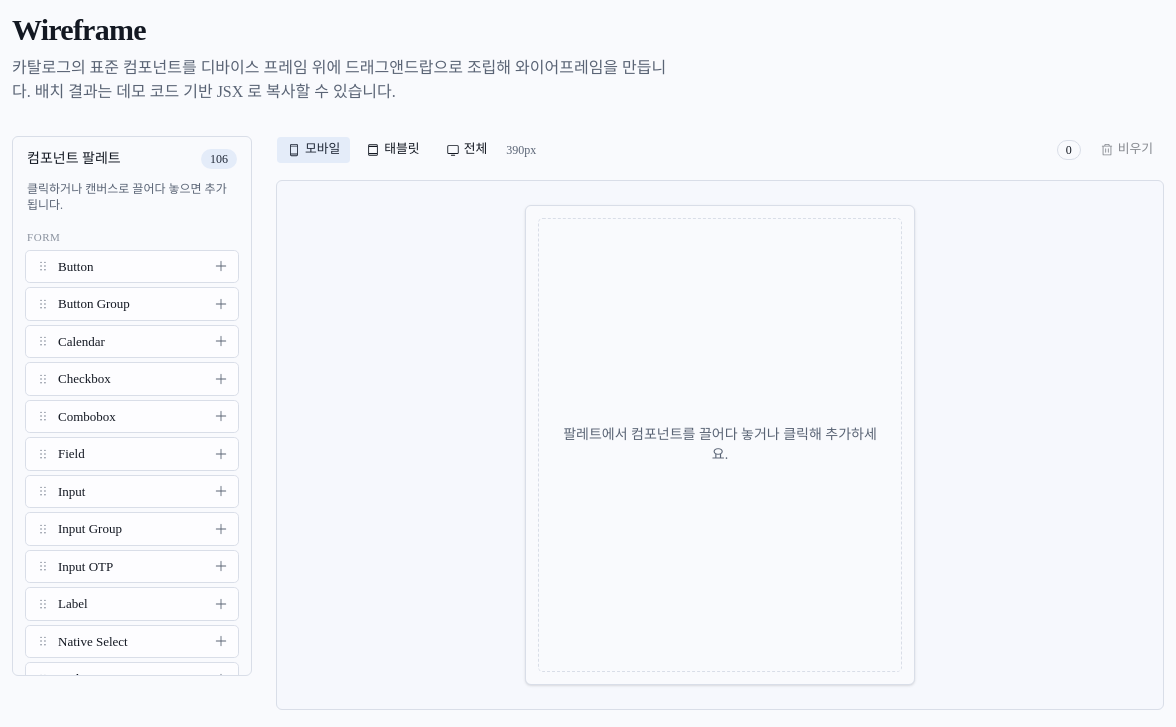
it: WireframePage › adds a component to the canvas on palette click and loads its demo (#17)
The image size is (1176, 727).
Click the button "Button": (132, 266) [25, 250, 239, 283]
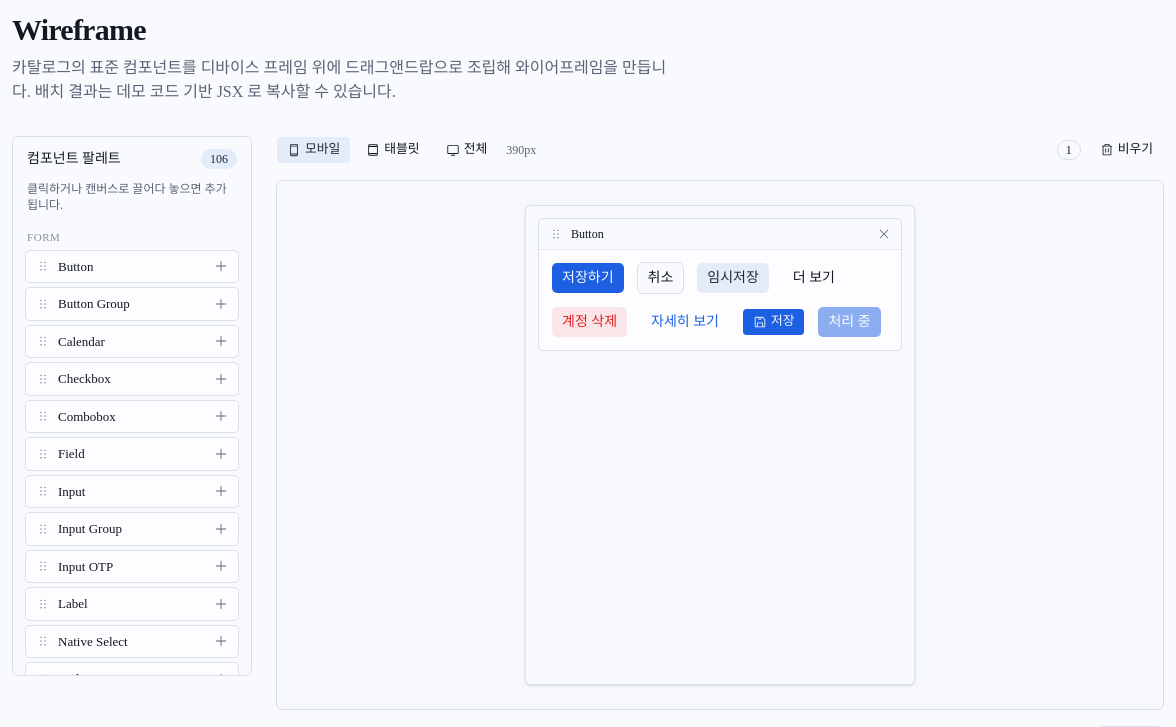
Check: the text "Button" below "390px" is shown, box [571, 227, 604, 241]
Check: the text "끌어다 놓거나 클릭해 추가하세요" is gone
